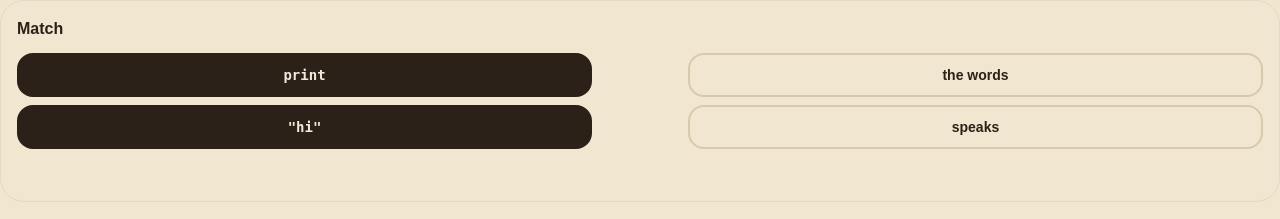
Test: match step › locks pairs and resolves when all match, ignoring a wrong pair
Click the button "print": click(304, 75) top-left (17, 53), bottom-right (592, 97)
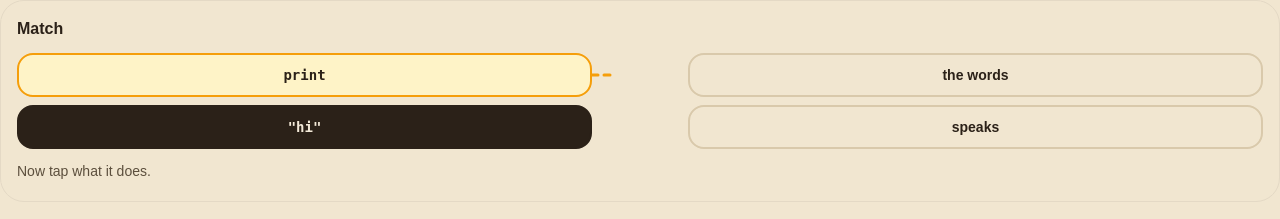
Click the button "the words": click(976, 75) top-left (688, 53), bottom-right (1263, 97)
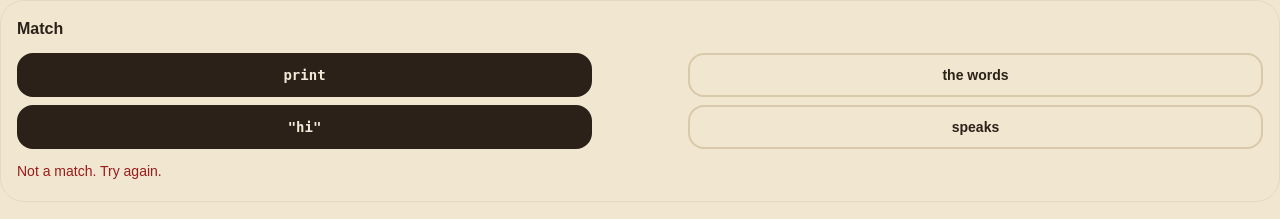
Expected: the message reads "Not a match. Try again.", top-left (17, 163), bottom-right (162, 179)
Click the button "print": click(304, 75) top-left (17, 53), bottom-right (592, 97)
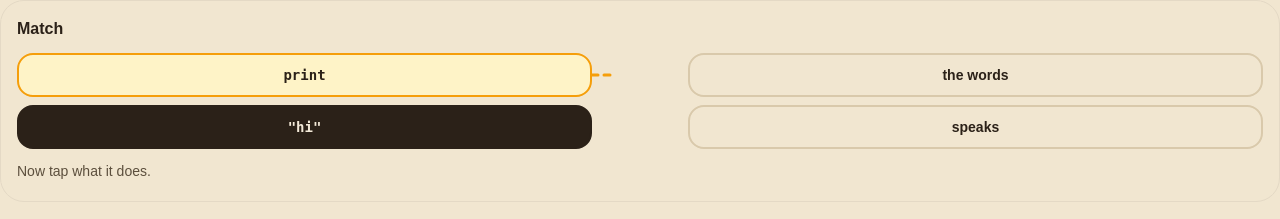
Click the button "speaks": click(976, 127) top-left (688, 105), bottom-right (1263, 149)
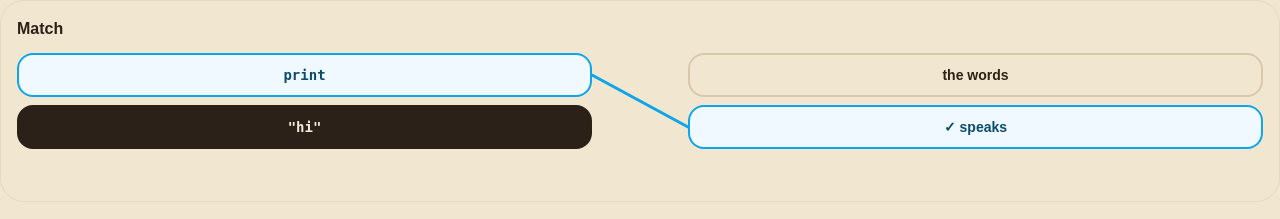
Click the button "\"hi\"": click(304, 127) top-left (17, 105), bottom-right (592, 149)
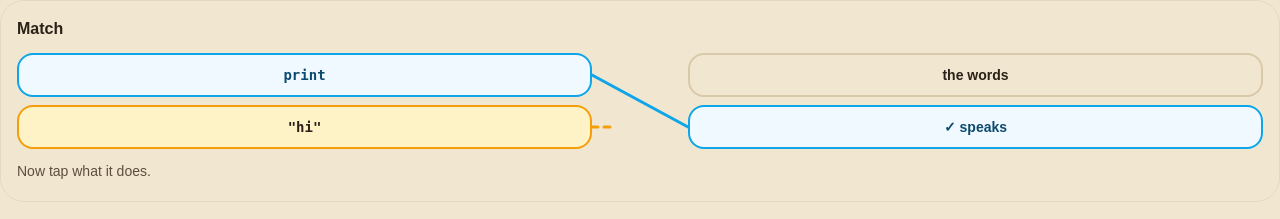
Click the button "the words": click(976, 75) top-left (688, 53), bottom-right (1263, 97)
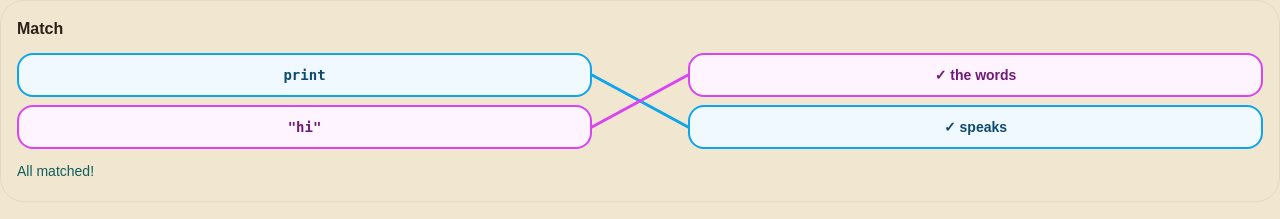
Expected: the message reads "All matched!", top-left (17, 163), bottom-right (94, 179)
